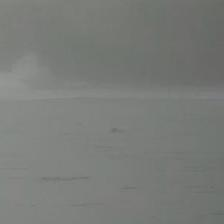surfer: (110, 126, 124, 134)
